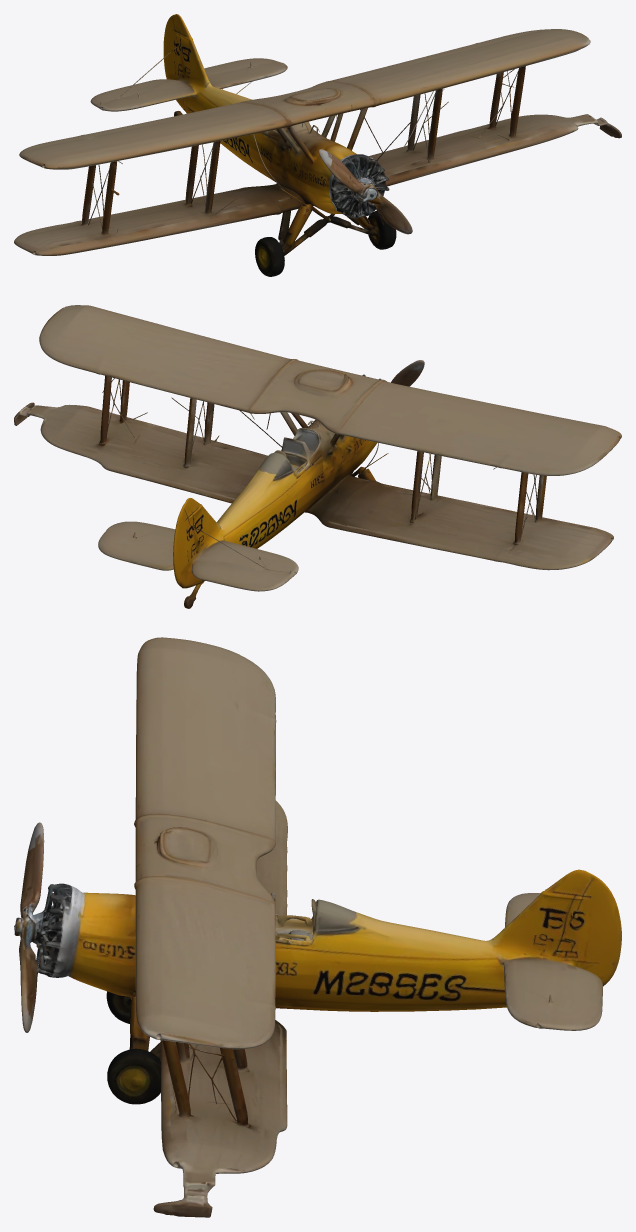
The model's file is artemis class biplane.glb.
3 renders of one model, top to bottom at view 1: azimuth 30°, elevation 25°; view 2: azimuth 150°, elevation 25°; view 3: azimuth 270°, elevation 25°, orthographic. The views are drawn at different scales.
Parts seen in each view (by area): view 1: node_0; view 2: node_0; view 3: node_0.
Boxes of the visible parts, x1,y1,x2,y2 form: node_0: (14,14,621,276); node_0: (14,305,621,608); node_0: (14,637,621,1217).
Size of the model in its own units: 1.12 by 0.2948 by 0.6942.
Materials: 1 (1 with a texture image).
